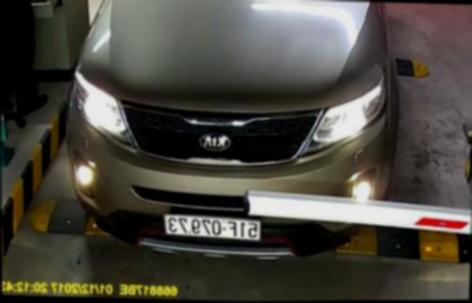License_Plate: (153, 208, 268, 249)
